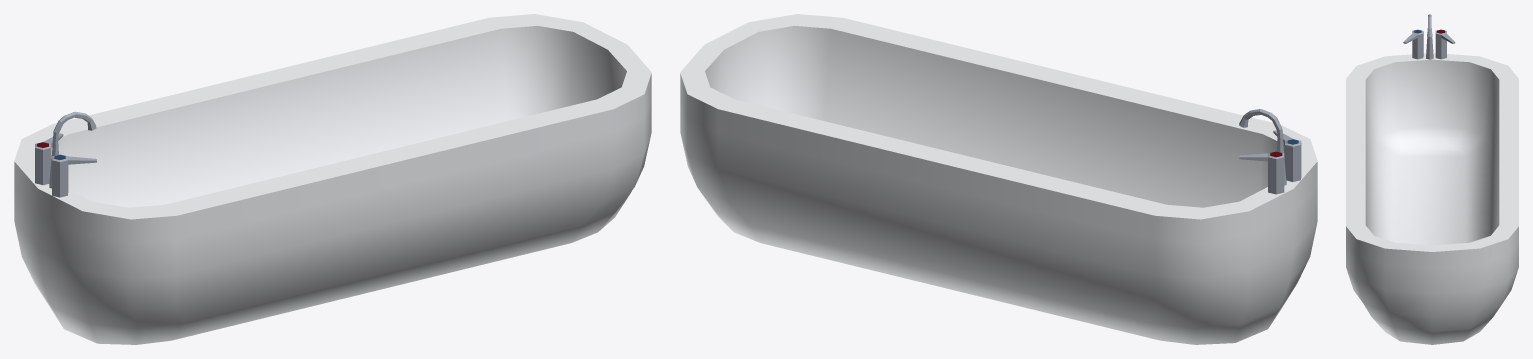
File: Bathtub.glb
3 renders of one model, left to right at view 1: azimuth 30°, elevation 25°; view 2: azimuth 150°, elevation 25°; view 3: azimuth 270°, elevation 25°, orthographic. The views are drawn at different scales.
Parts seen in each view (by area): view 1: Bathtub; view 2: Bathtub; view 3: Bathtub.
Boxes of the visible parts, x1,y1,x2,y2 form: Bathtub: (14,14,651,344); Bathtub: (680,14,1317,344); Bathtub: (1346,14,1518,344).
Bounding box in the file's own units: 2 × 0.7029 × 0.7345.
1 material, 1 textured.
